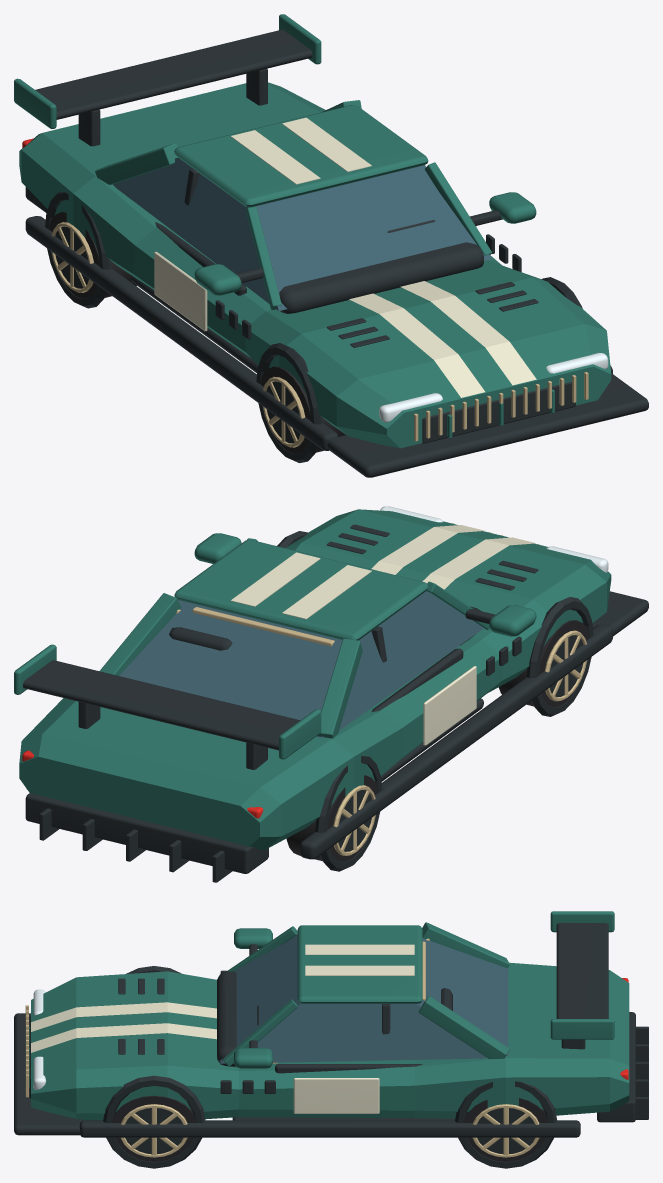
The model's file is VEH_V8_Endurance_GT.glb.
3 renders of one model, top to bottom at view 1: azimuth 30°, elevation 25°; view 2: azimuth 150°, elevation 25°; view 3: azimuth 270°, elevation 25°, orthographic. The views are drawn at different scales.
Parts seen in each view (by area): view 1: GT_sculpted_body, Glasshouse, Roof, Rear_wing, Front_splitter, Side_skirt, Dashboard, Front_intake, Door_number_panel, Wheelarch, Roof_stripe, Roof_stripe.001 (+20 smaller); view 2: GT_sculpted_body, Glasshouse, Roof, Rear_wing, Side_skirt, Rear_diffuser, Door_number_panel, C_pillar, C_pillar.001, Wheelarch, Roof_stripe, Roof_stripe.001 (+19 smaller); view 3: GT_sculpted_body, Glasshouse, Side_skirt.001, Roof, Rear_wing, Door_number_panel.001, Front_splitter, Wheelarch.002, C_pillar.001, Wheelarch.003, Dashboard, Tyre.002 (+23 smaller).
Boxes of the visible parts, bbox=[...] form: GT_sculpted_body: bbox=[19, 82, 611, 448]; Glasshouse: bbox=[113, 157, 491, 310]; Roof: bbox=[174, 105, 428, 207]; Rear_wing: bbox=[35, 29, 312, 119]; Front_splitter: bbox=[327, 373, 648, 477]; Side_skirt: bbox=[25, 216, 338, 450]; Dashboard: bbox=[279, 242, 483, 313]; Front_intake: bbox=[422, 381, 575, 443]; Door_number_panel: bbox=[154, 251, 207, 331]; Wheelarch: bbox=[256, 343, 323, 462]; Roof_stripe: bbox=[230, 130, 320, 184]; Roof_stripe.001: bbox=[282, 117, 371, 171]; GT_sculpted_body: bbox=[19, 509, 611, 849]; Glasshouse: bbox=[119, 591, 483, 738]; Roof: bbox=[174, 540, 428, 640]; Rear_wing: bbox=[23, 660, 299, 750]; Side_skirt: bbox=[300, 624, 612, 859]; Rear_diffuser: bbox=[25, 793, 268, 873]; Door_number_panel: bbox=[423, 666, 476, 745]; C_pillar: bbox=[317, 638, 362, 738]; C_pillar.001: bbox=[99, 593, 181, 675]; Wheelarch: bbox=[526, 597, 593, 716]; Roof_stripe: bbox=[282, 565, 371, 619]; Roof_stripe.001: bbox=[230, 552, 320, 606]; GT_sculpted_body: bbox=[31, 962, 629, 1120]; Glasshouse: bbox=[219, 934, 508, 1063]; Side_skirt.001: bbox=[79, 1120, 580, 1137]; Roof: bbox=[297, 925, 422, 1003]; Rear_wing: bbox=[556, 923, 608, 1018]; Door_number_panel.001: bbox=[293, 1078, 379, 1113]; Front_splitter: bbox=[14, 1013, 83, 1135]; Wheelarch.002: bbox=[103, 1075, 205, 1168]; C_pillar.001: bbox=[418, 996, 509, 1058]; Wheelarch.003: bbox=[455, 1081, 557, 1168]; Dashboard: bbox=[217, 971, 236, 1066]; Tyre.002: bbox=[112, 1095, 196, 1161].
Bounding box in the file's own units: 2.33 × 1.27 × 4.75.
